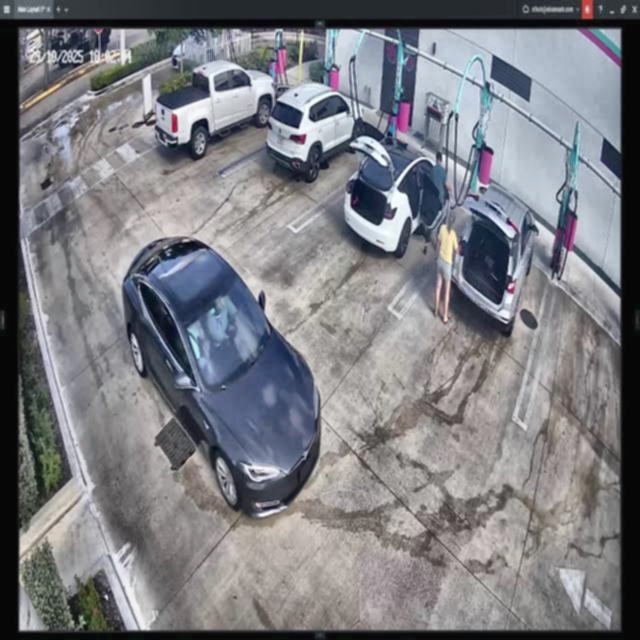Car: (119, 221, 321, 521), (342, 138, 448, 265), (454, 180, 536, 336), (151, 56, 276, 153), (268, 83, 360, 181)
